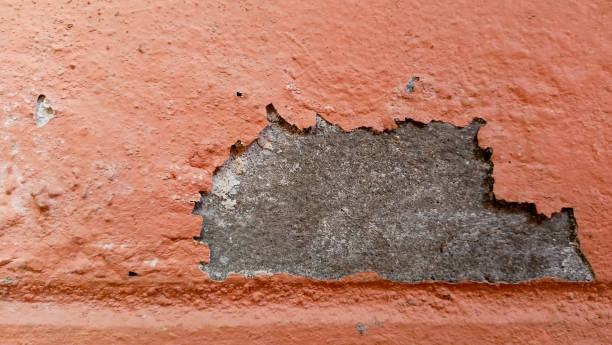wall_peeling: (191, 102, 600, 283)
